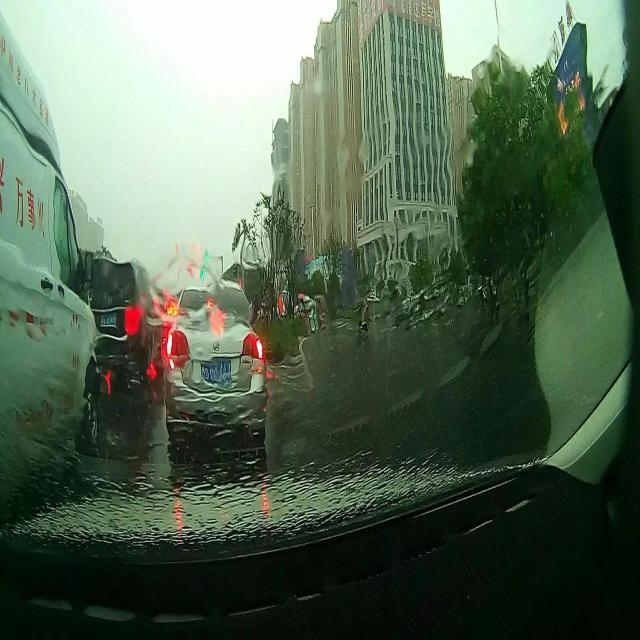car: (162, 278, 266, 438), (88, 259, 158, 381)
